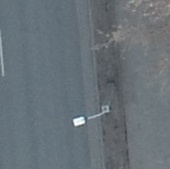opora: (71, 80, 116, 128)
